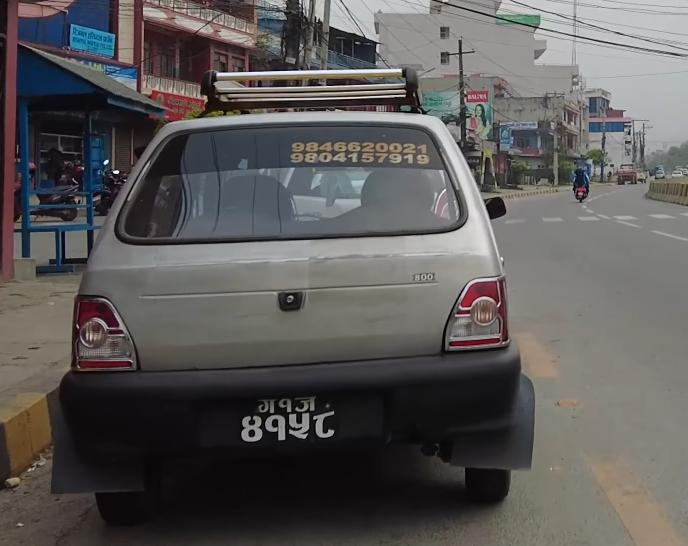taxi: (36, 58, 542, 526)
